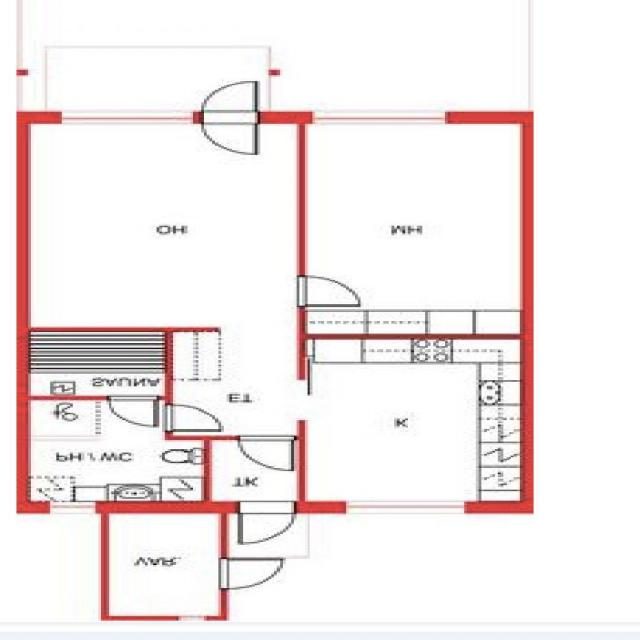door: (240, 500, 296, 544), (202, 111, 256, 153), (202, 82, 256, 123), (221, 558, 286, 590), (299, 276, 362, 306), (240, 436, 294, 470), (109, 394, 157, 426), (165, 405, 222, 431)
